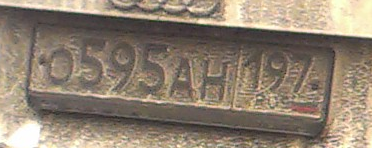character: (139, 42, 168, 94), (79, 35, 108, 86), (198, 57, 230, 103), (167, 55, 196, 100), (111, 40, 137, 88), (44, 46, 74, 84), (289, 50, 313, 97), (266, 48, 288, 94), (244, 47, 265, 95)
